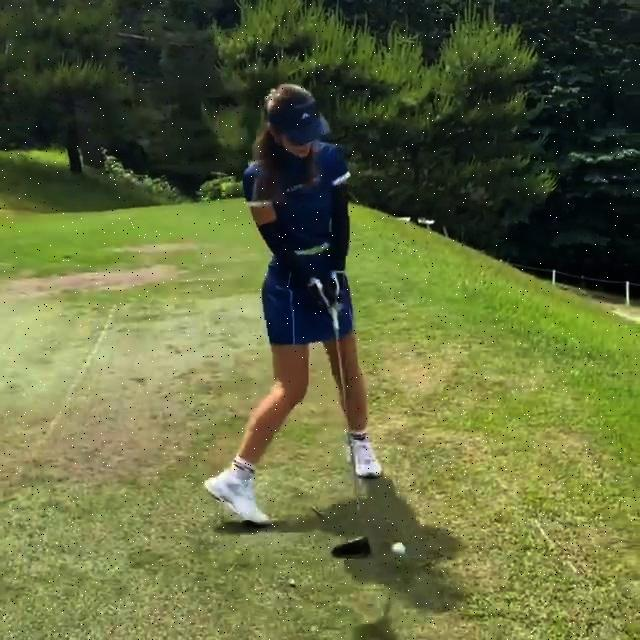golf ball: (390, 542, 406, 555)
golf club-handle: (331, 307, 371, 560)
golf club-head: (331, 537, 372, 560)
